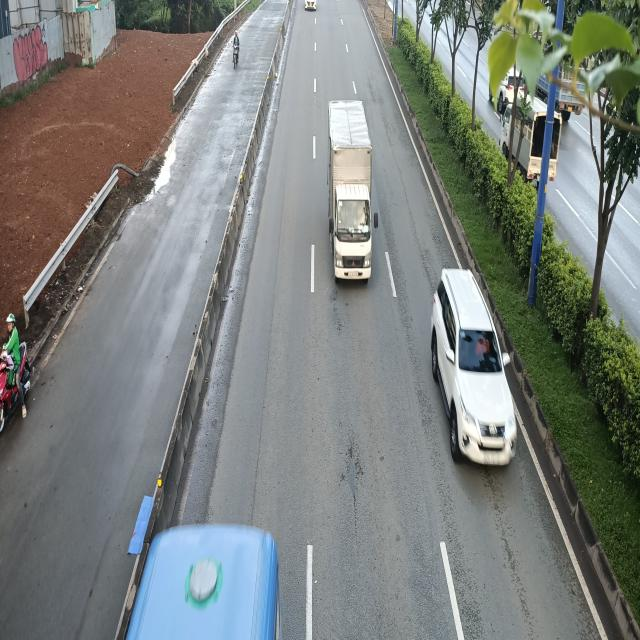car: (430, 267, 513, 465)
truck: (328, 102, 380, 285)
